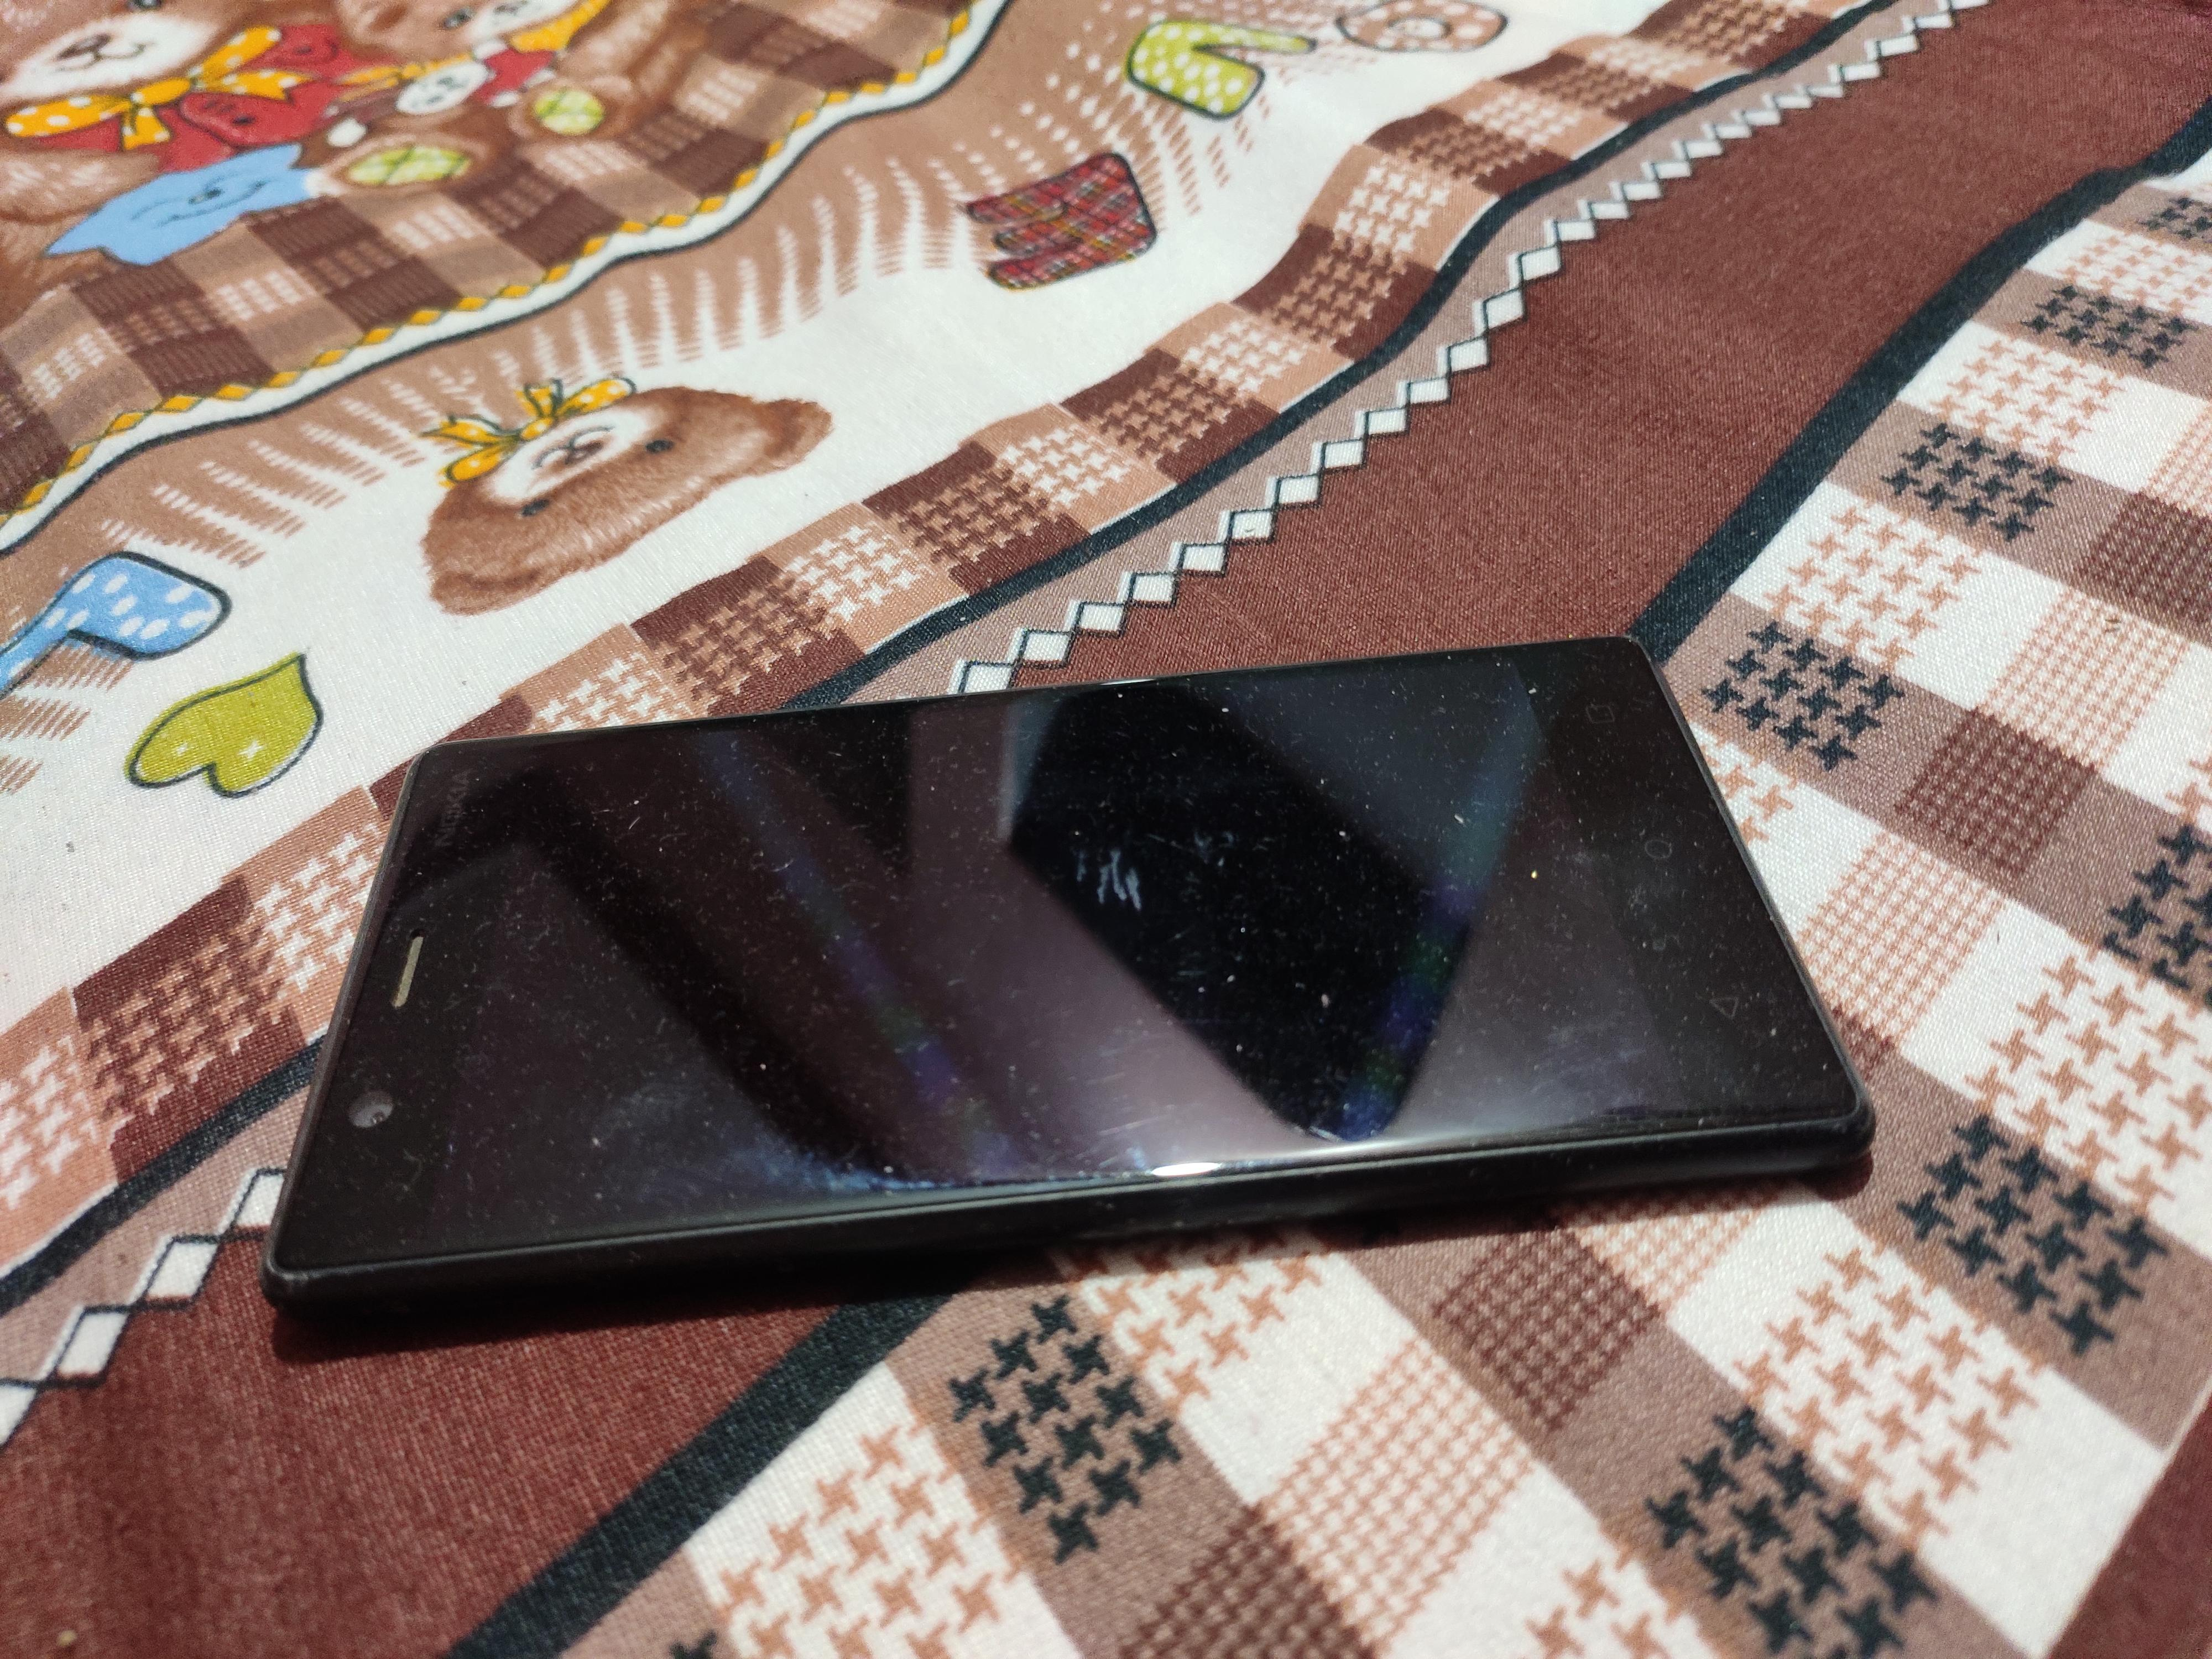Phone: (225, 591, 1911, 1371)
